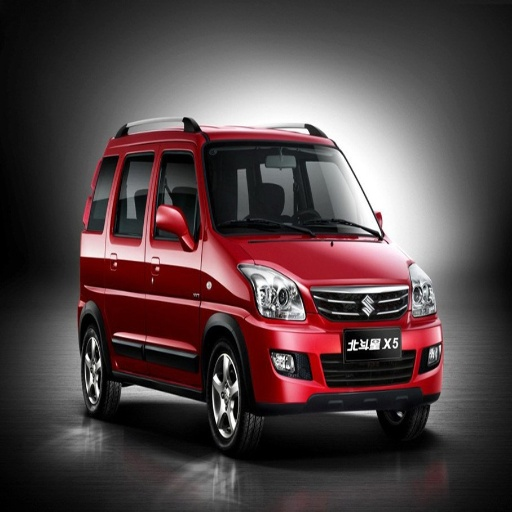front_bumper: (241, 286, 442, 411)
front_glass: (198, 141, 384, 239)
front_right_door: (144, 148, 198, 382)
front_right_light: (241, 262, 307, 322)
